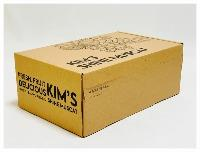undamaged: (14, 28, 185, 140)
